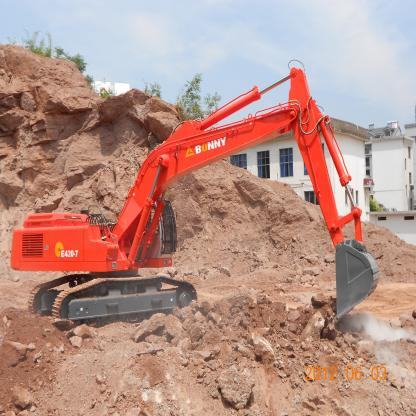excavator: (13, 55, 380, 352)
